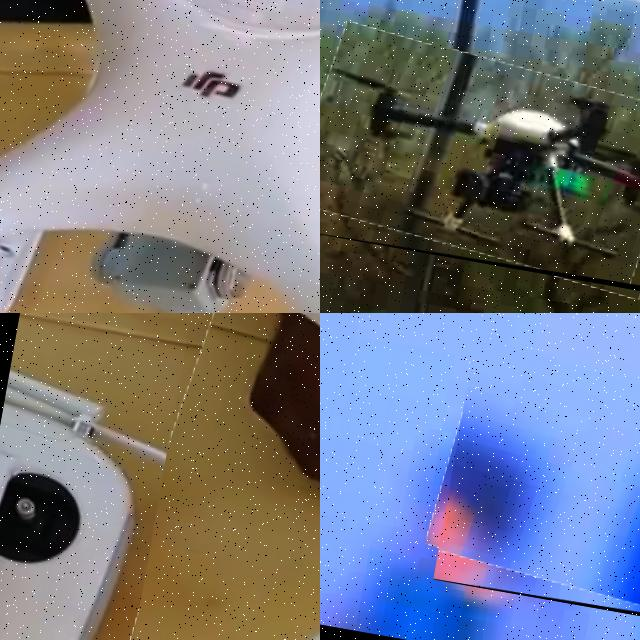0: (320, 27, 640, 293)
drone: (0, 0, 320, 313), (108, 313, 320, 640), (432, 313, 640, 640)
